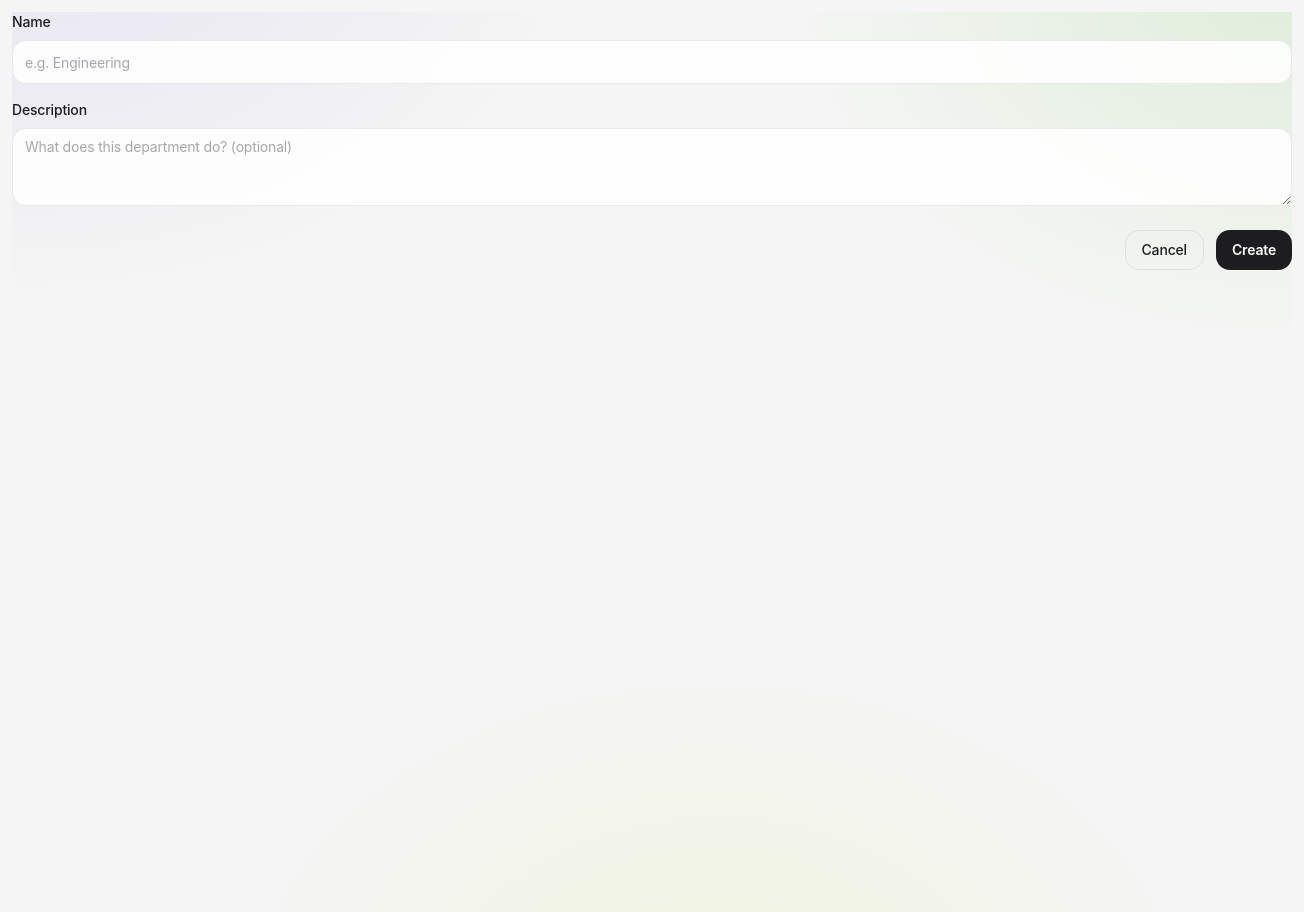
Test: DepartmentForm › requires a name
Click the button "Create" at x=1254, y=250, box [1216,230,1292,270]
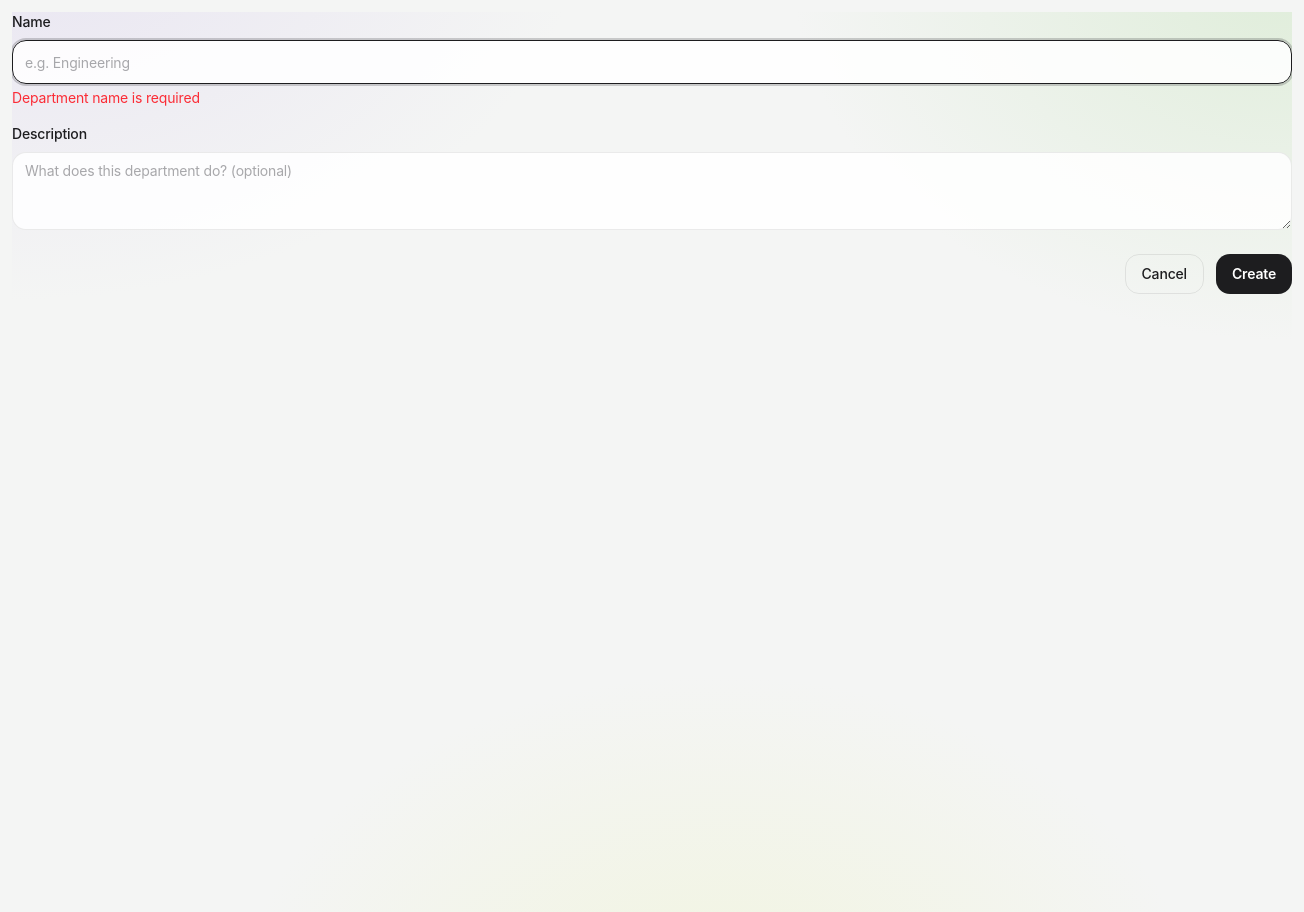
Check: the text "Department name is required" is shown, box [12,89,200,106]
